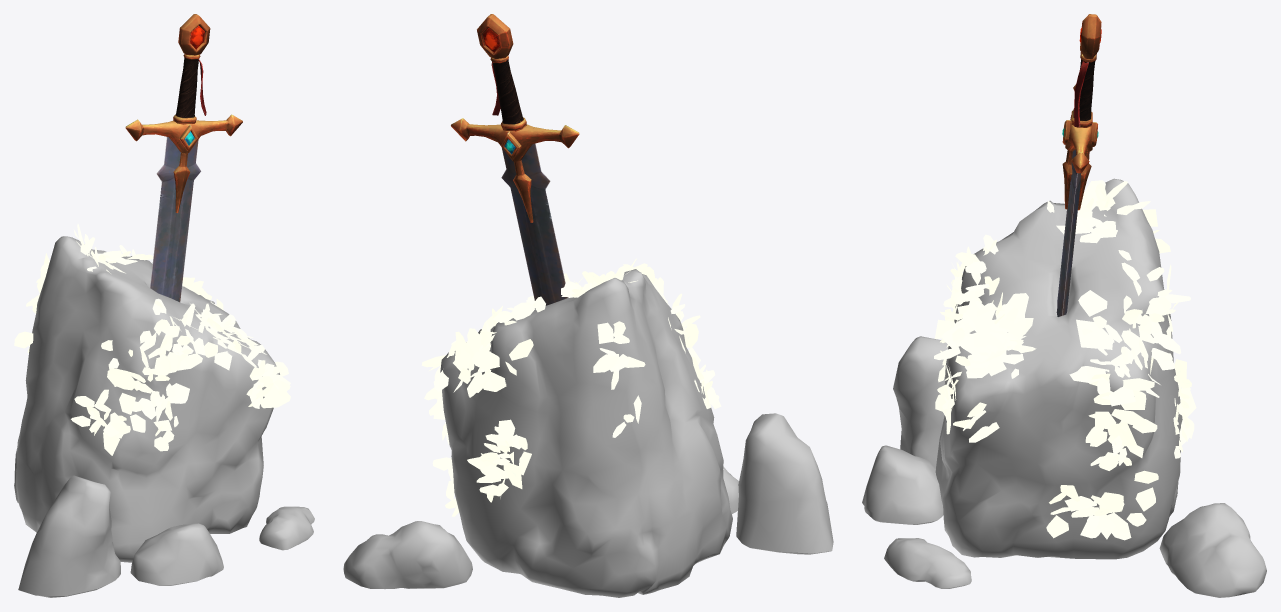
The picture shows the model from 3 angles, left to right: view 1: azimuth 30°, elevation 25°; view 2: azimuth 150°, elevation 25°; view 3: azimuth 270°, elevation 25°; orthographic projection. The views are drawn at different scales.
Visible parts, largest first — view 1: stone_LP001; view 2: stone_LP001; view 3: stone_LP001.
Boxes of the visible parts, x1,y1,x2,y2 form: stone_LP001: [14, 14, 314, 597]; stone_LP001: [343, 14, 833, 597]; stone_LP001: [862, 14, 1266, 597].
Size of the model in its own units: 0.7542 by 1.09 by 0.7305.
